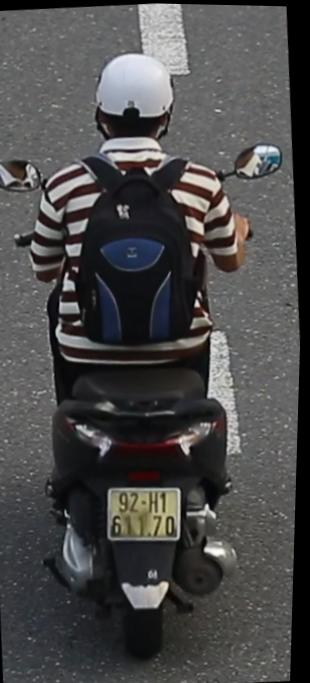LP: (103, 478, 190, 550)
helmet: (85, 42, 186, 167)
